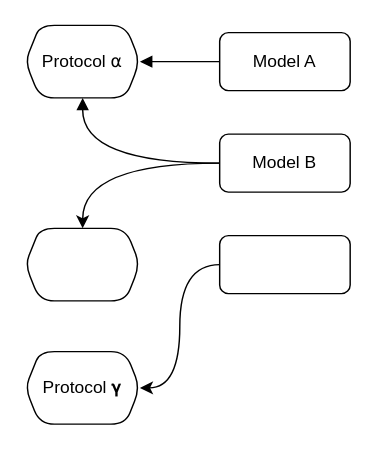
The diagram is 376 pixels wide and 450 high, and some of its shapes have lost their labels. The box of each missing label's shape, as (x1, y1, x2, y2) in pixels:
Model C: (218, 234, 350, 294)
Protocol β: (24, 227, 140, 301)
